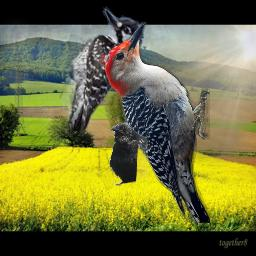Crow: (108, 122, 148, 186)
Woodpecker: (99, 22, 210, 223), (45, 6, 145, 131)
